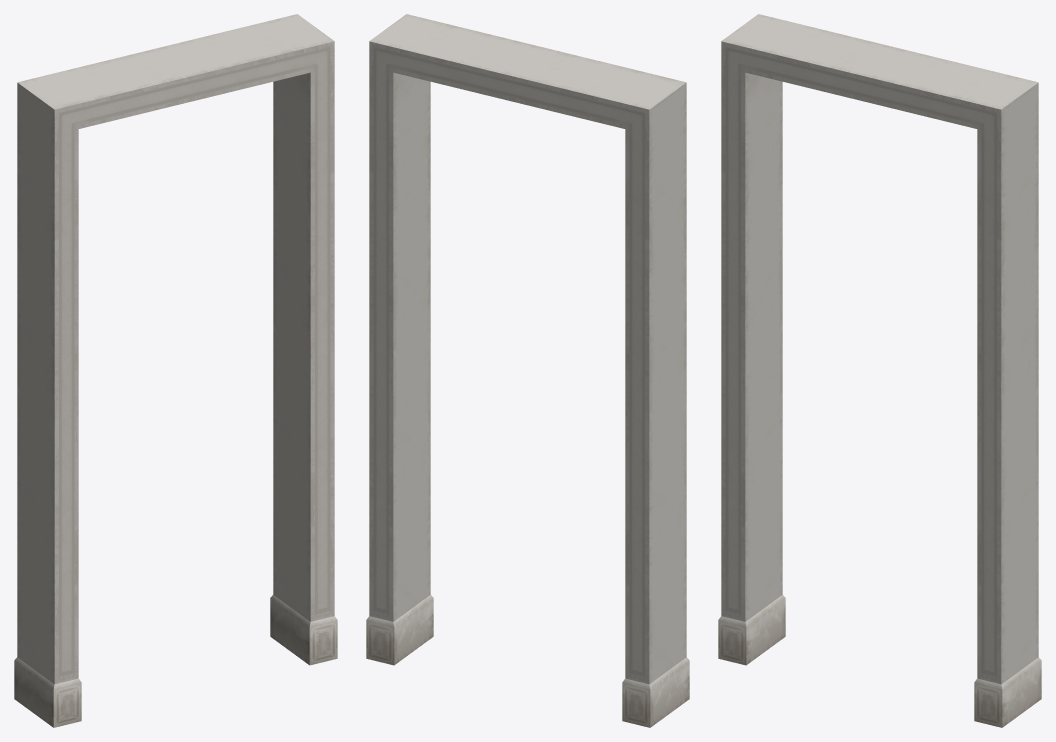
File: DoorFrameA.FBX
3 views of the same model, side by side, from view 1: azimuth 30°, elevation 25°; view 2: azimuth 150°, elevation 25°; view 3: azimuth 330°, elevation 25° (orthographic).
Visible parts, largest first — view 1: DoorFrameA; view 2: DoorFrameA; view 3: DoorFrameA.
Part boxes in pixels (x1,y1,x2,y2): DoorFrameA: [14, 14, 337, 727]; DoorFrameA: [366, 14, 689, 727]; DoorFrameA: [718, 14, 1041, 727].
Bounding box in the file's own units: 105 × 219 × 25.41.
